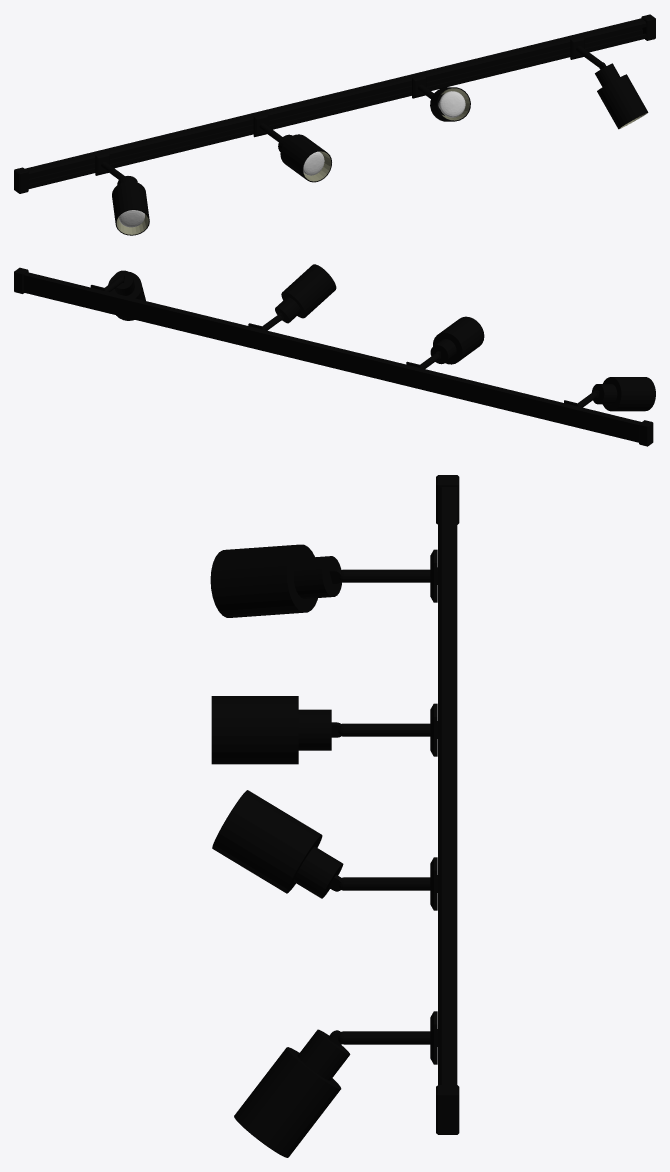
Rendered from track-lights.obj.
3 views of the same model, one above another, from view 1: azimuth 30°, elevation 25°; view 2: azimuth 150°, elevation 25°; view 3: azimuth 270°, elevation 25° (orthographic). The views are drawn at different scales.
Visible parts, largest first — view 1: Track_Black_paint, sweethome3d_arm_on_ball_4_Spot_fixture_Black_paint, sweethome3d_arm_on_ball_1_Spot_fixture_Black_paint, sweethome3d_arm_on_ball_2_Spot_fixture_Black_paint, Track_Black_plastic, sweethome3d_arm_on_ball_3_Spot_Bulb_Frosted_bulb, sweethome3d_arm_on_ball_3_Spot_fixture_Black_paint, sweethome3d_arm_on_ball_2_Spot_Bulb_Frosted_bulb, sweethome3d_arm_on_ball_1_Spot_Bulb_Frosted_bulb; view 2: Track_Black_paint, sweethome3d_arm_on_ball_3_Spot_fixture_Black_paint, sweethome3d_arm_on_ball_1_Spot_fixture_Black_paint, sweethome3d_arm_on_ball_2_Spot_fixture_Black_paint, sweethome3d_arm_on_ball_4_Spot_fixture_Black_paint, Track_Black_plastic; view 3: Track_Black_paint, sweethome3d_arm_on_ball_1_Spot_fixture_Black_paint, sweethome3d_arm_on_ball_4_Spot_fixture_Black_paint, sweethome3d_arm_on_ball_3_Spot_fixture_Black_paint, sweethome3d_arm_on_ball_2_Spot_fixture_Black_paint, Track_Black_plastic, Spot_mount_4_Black_paint, Spot_mount_2_Black_paint, Spot_mount_3_Black_paint, Spot_mount_1_Black_paint.
Boxes of the visible parts, x1,y1,x2,y2 form: Track_Black_paint: [25, 18, 646, 188]; sweethome3d_arm_on_ball_4_Spot_fixture_Black_paint: [595, 62, 648, 129]; sweethome3d_arm_on_ball_1_Spot_fixture_Black_paint: [112, 176, 149, 235]; sweethome3d_arm_on_ball_2_Spot_fixture_Black_paint: [278, 134, 331, 182]; Track_Black_plastic: [14, 14, 655, 193]; sweethome3d_arm_on_ball_3_Spot_Bulb_Frosted_bulb: [439, 91, 465, 117]; sweethome3d_arm_on_ball_3_Spot_fixture_Black_paint: [430, 87, 470, 121]; sweethome3d_arm_on_ball_2_Spot_Bulb_Frosted_bulb: [303, 151, 324, 175]; sweethome3d_arm_on_ball_1_Spot_Bulb_Frosted_bulb: [118, 210, 144, 227]; Track_Black_paint: [23, 272, 641, 442]; sweethome3d_arm_on_ball_3_Spot_fixture_Black_paint: [275, 264, 336, 323]; sweethome3d_arm_on_ball_1_Spot_fixture_Black_paint: [591, 377, 655, 411]; sweethome3d_arm_on_ball_2_Spot_fixture_Black_paint: [430, 316, 484, 364]; sweethome3d_arm_on_ball_4_Spot_fixture_Black_paint: [108, 270, 145, 320]; Track_Black_plastic: [14, 267, 653, 446]; Track_Black_paint: [438, 487, 457, 1084]; sweethome3d_arm_on_ball_1_Spot_fixture_Black_paint: [210, 544, 341, 617]; sweethome3d_arm_on_ball_4_Spot_fixture_Black_paint: [234, 1029, 350, 1157]; sweethome3d_arm_on_ball_3_Spot_fixture_Black_paint: [212, 790, 343, 898]; sweethome3d_arm_on_ball_2_Spot_fixture_Black_paint: [211, 696, 341, 764]; Track_Black_plastic: [436, 475, 459, 1134]; Spot_mount_4_Black_paint: [338, 1031, 430, 1044]; Spot_mount_2_Black_paint: [338, 723, 430, 736]; Spot_mount_3_Black_paint: [339, 877, 430, 890]; Spot_mount_1_Black_paint: [339, 569, 430, 582].
Bounding box in the file's own units: 12.07 × 1.67 × 2.05.
